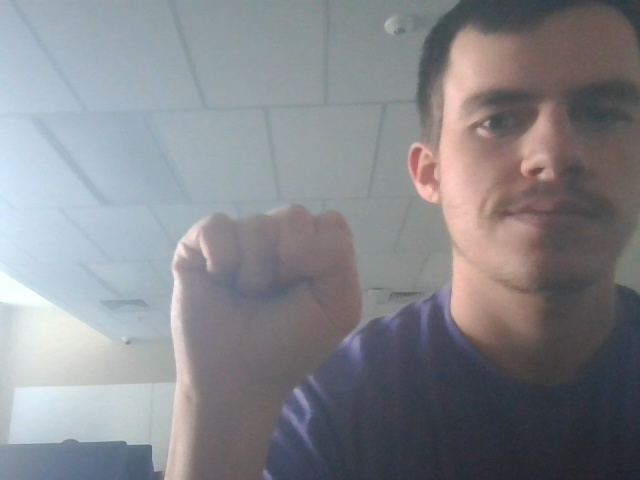yes: (157, 189, 384, 391)
